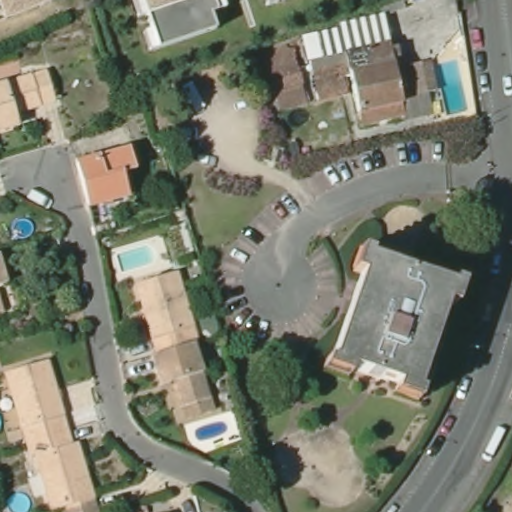pool: (436, 57, 470, 115), (113, 244, 160, 273), (194, 421, 230, 443), (4, 489, 36, 511), (10, 217, 37, 240)
